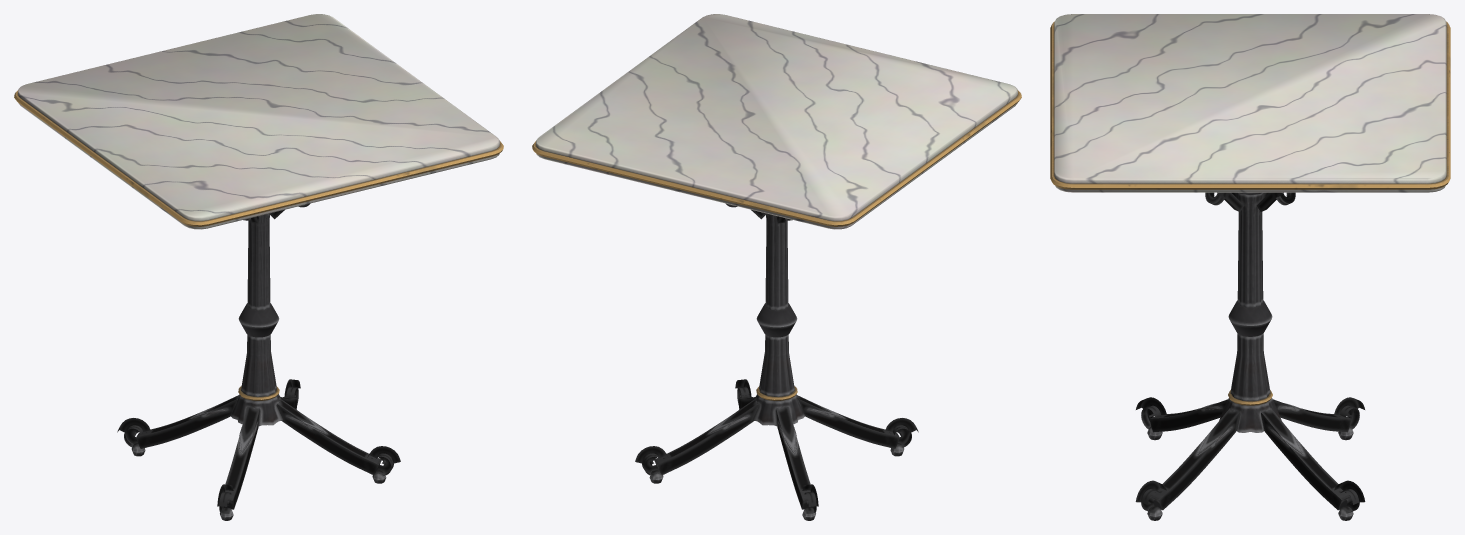
Rendered from TableCafe.fbx.
3 views of the same model, side by side, from view 1: azimuth 30°, elevation 25°; view 2: azimuth 150°, elevation 25°; view 3: azimuth 270°, elevation 25° (orthographic). The views are drawn at different scales.
Visible parts, largest first — view 1: TableCafe; view 2: TableCafe; view 3: TableCafe.
Boxes of the visible parts, left/top/right/bottom form: TableCafe: left=14, top=14, right=503, bottom=520; TableCafe: left=532, top=14, right=1021, bottom=520; TableCafe: left=1050, top=14, right=1450, bottom=520.
Bounding box in the file's own units: 255 × 270 × 255.
